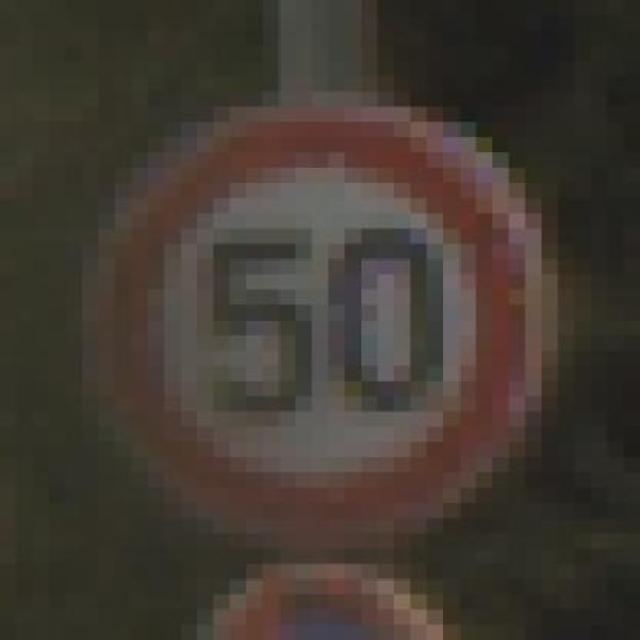forb_speed_over_50: (91, 101, 544, 547)
